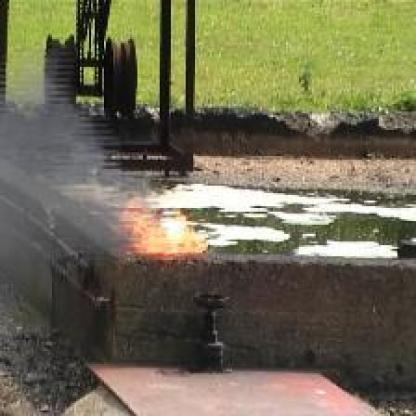fire: (118, 192, 212, 257)
smoke: (3, 100, 112, 255)
